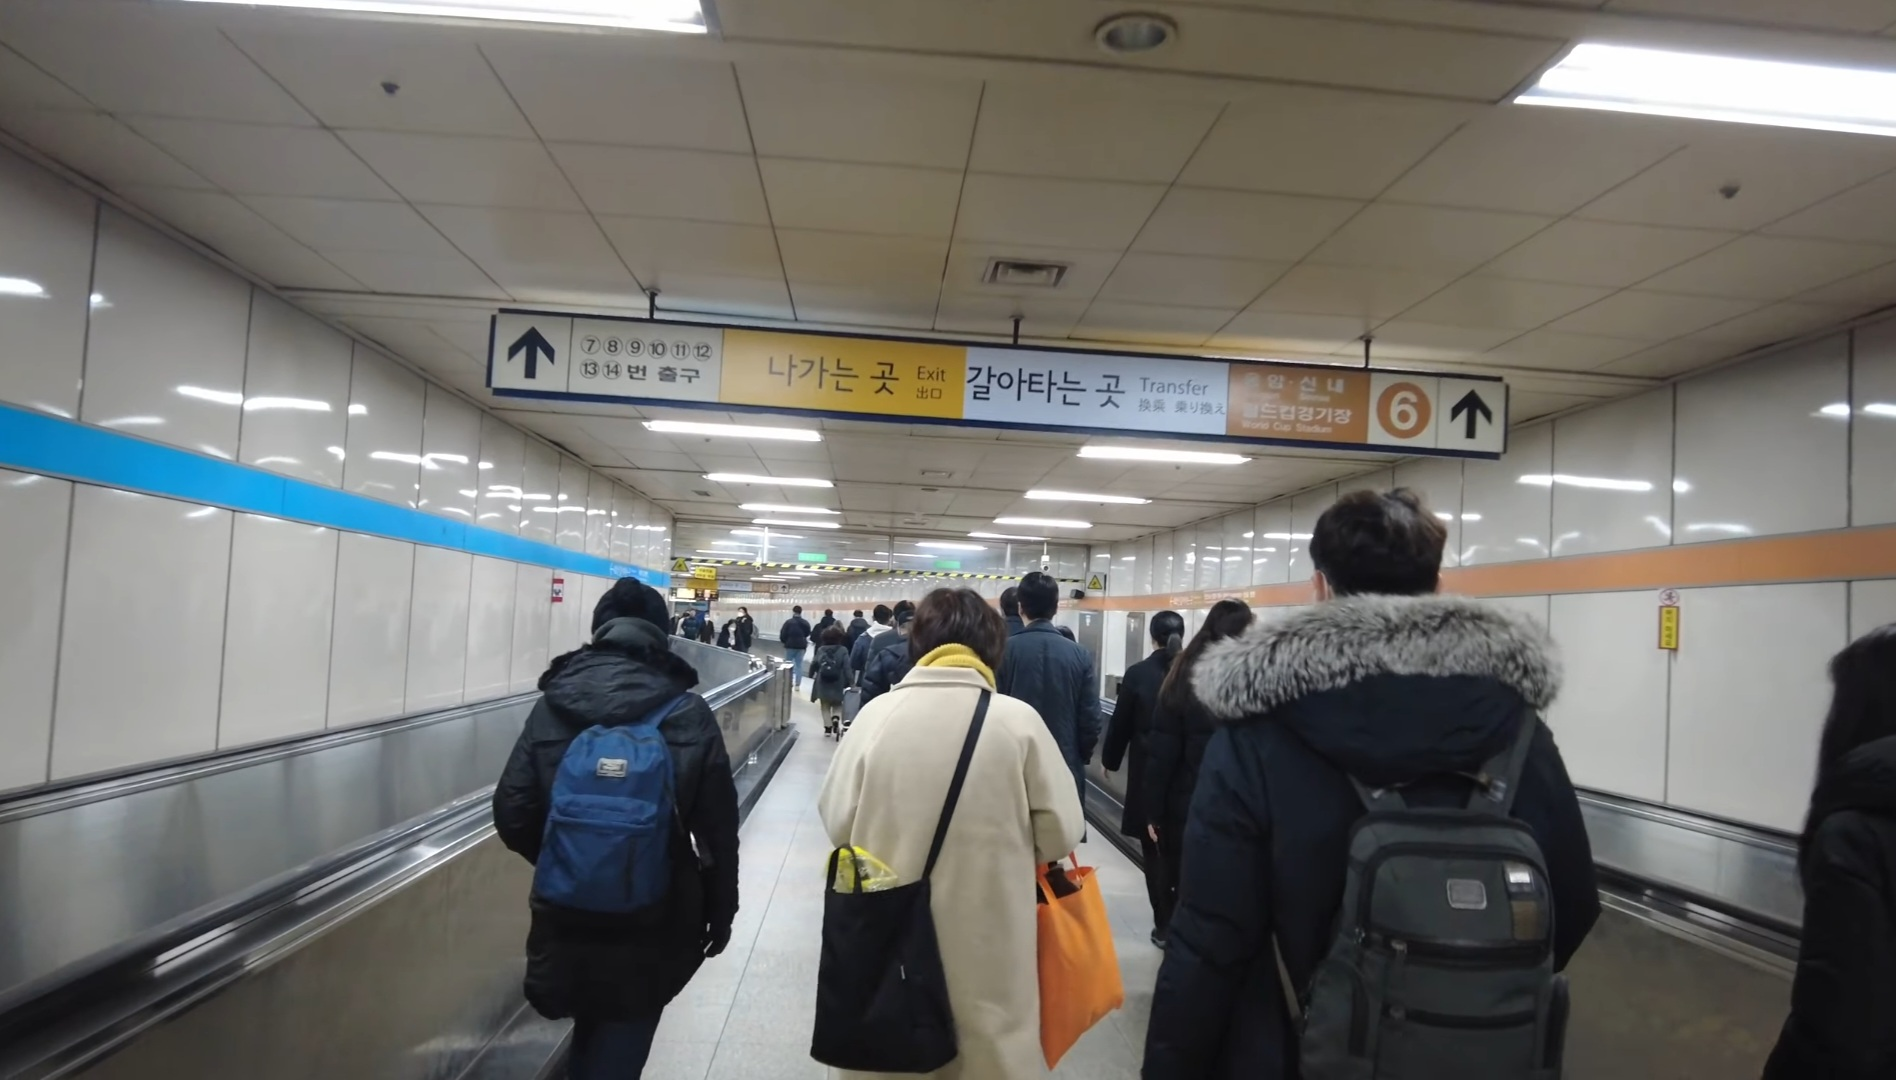signBoard: (475, 304, 1513, 472)
